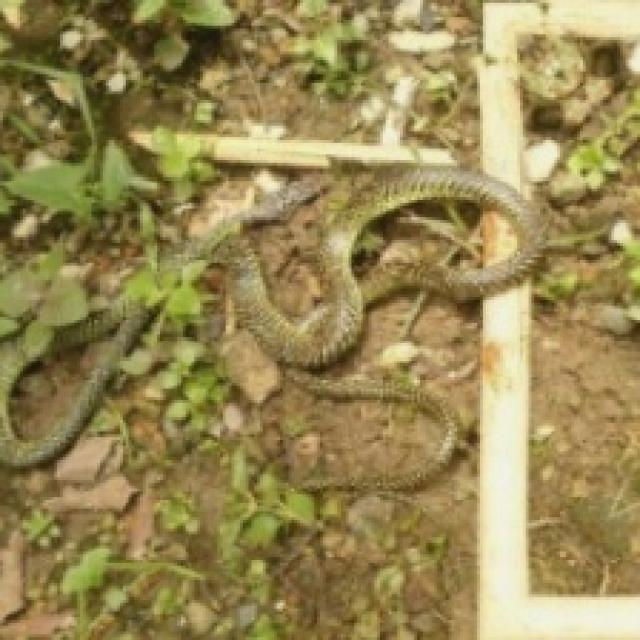paradise tree snake: (160, 166, 540, 366), (0, 289, 157, 466), (351, 200, 511, 280)
